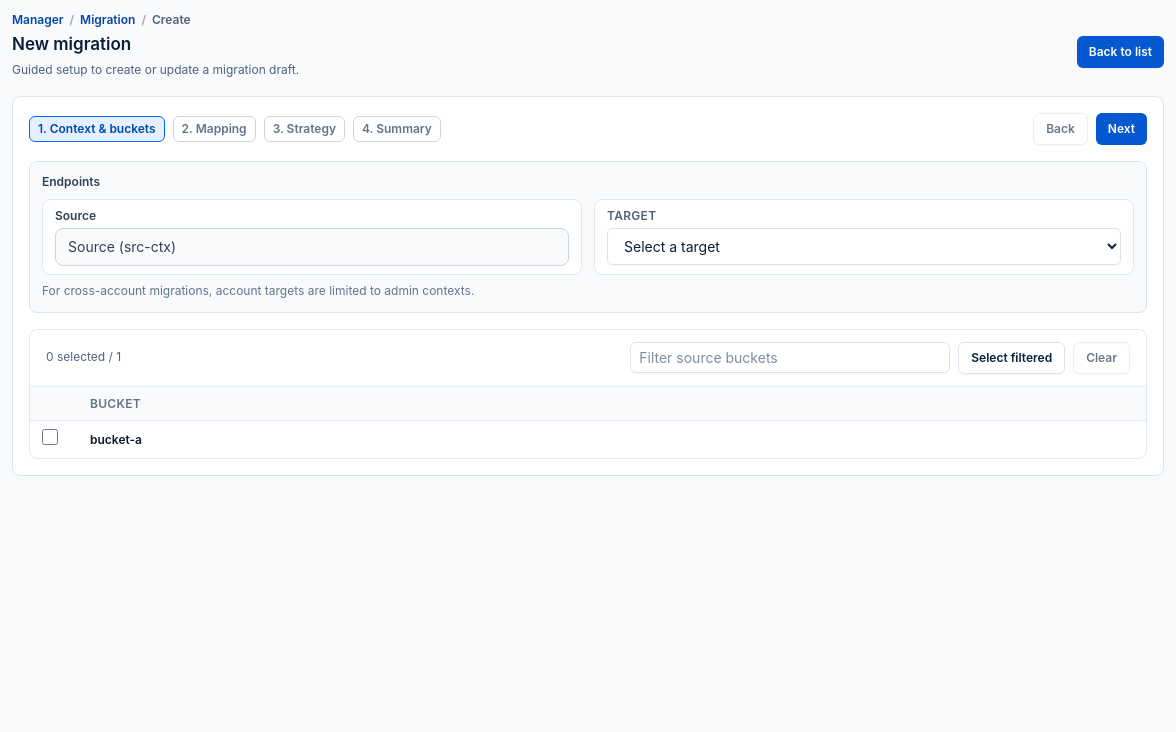
Scenario: ManagerMigrationWizardPage › blocks cross-account account migration when one side is non-admin
Check: the heading "New migration" is shown, box [12, 32, 131, 56]
Select "Target (tgt-ctx)" in the dropdown labelled "Target" at (864,246), box [607, 228, 1121, 265]
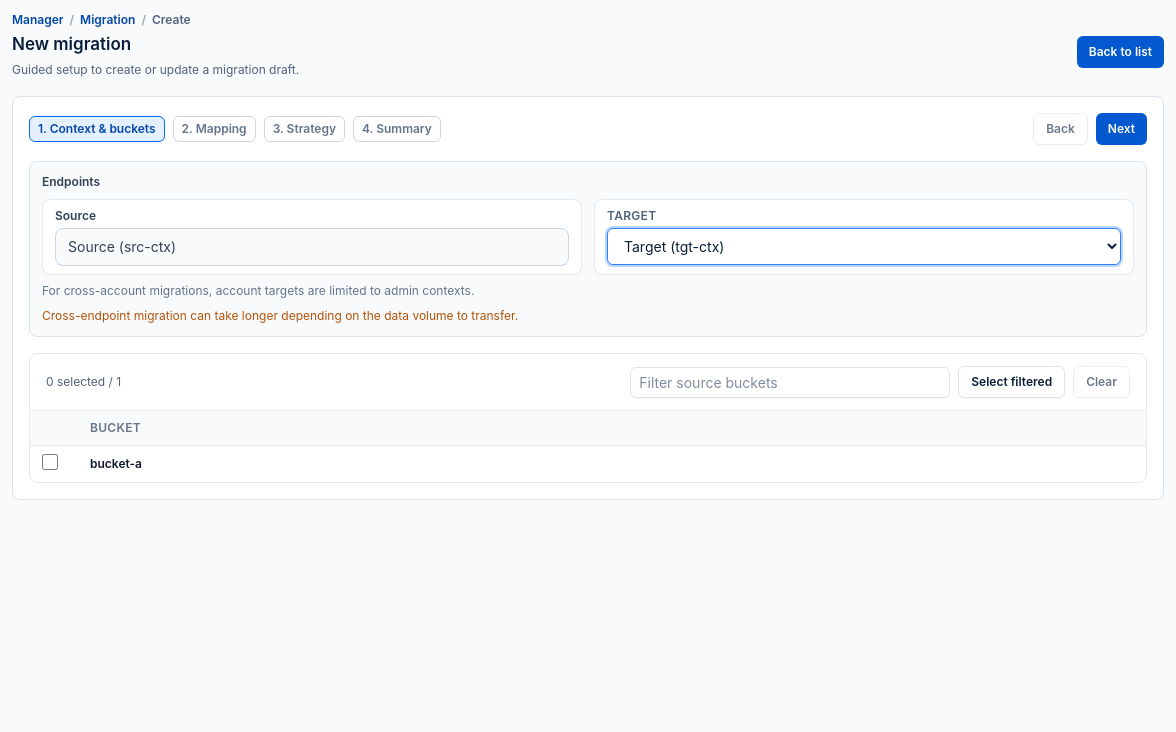
Click the checkbox named "Select bucket-a" at (50,462), box [42, 454, 58, 470]
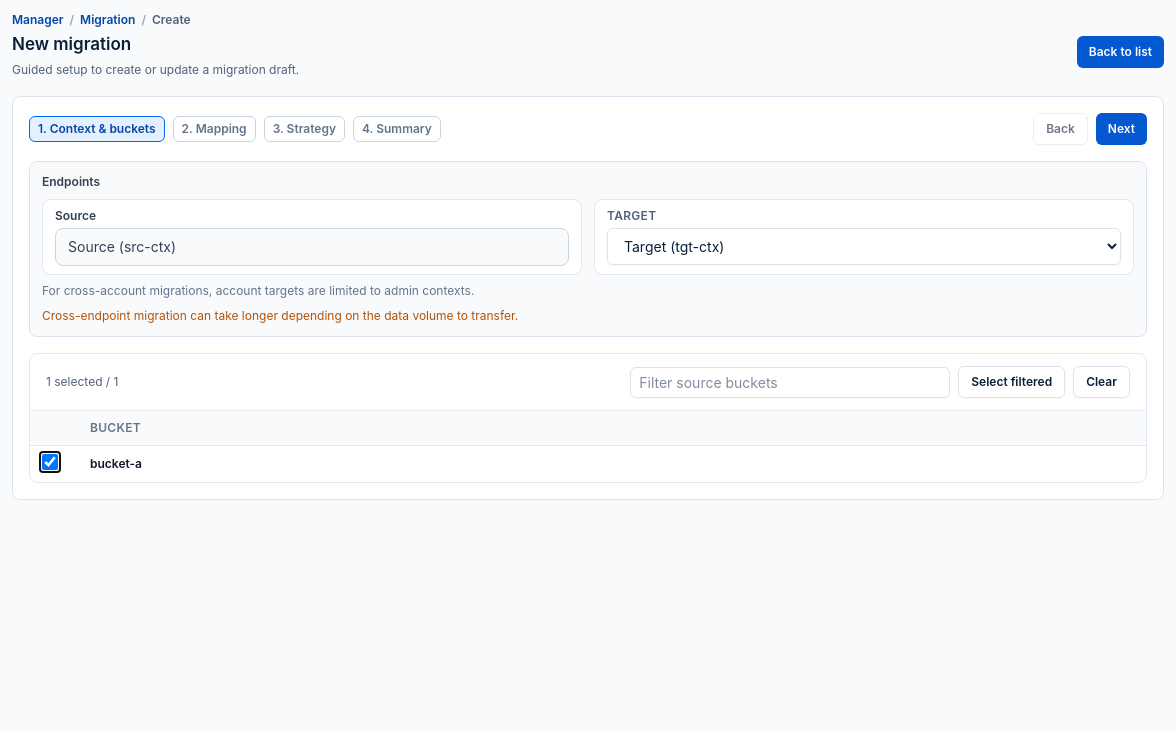
Click the button "Next" at (1121,129), box [1096, 113, 1147, 145]
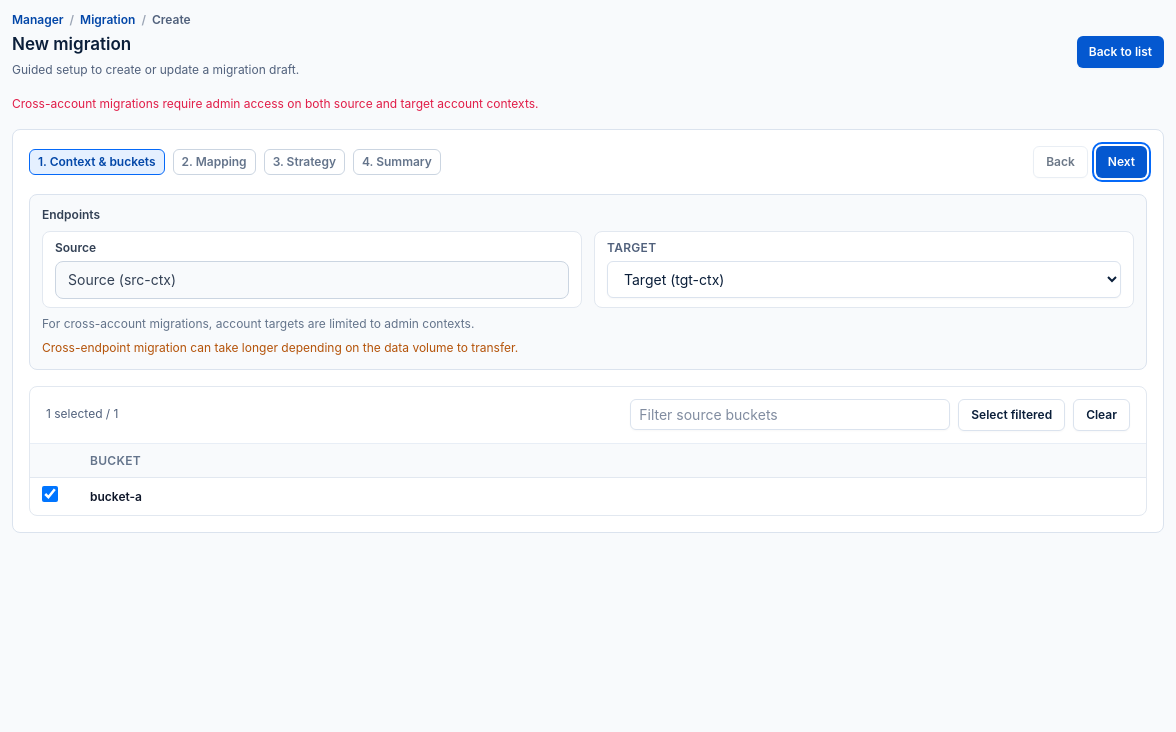
Check: the text "Cross-account migrations require admin access on both source and target account contexts." is shown, box [12, 96, 538, 111]
